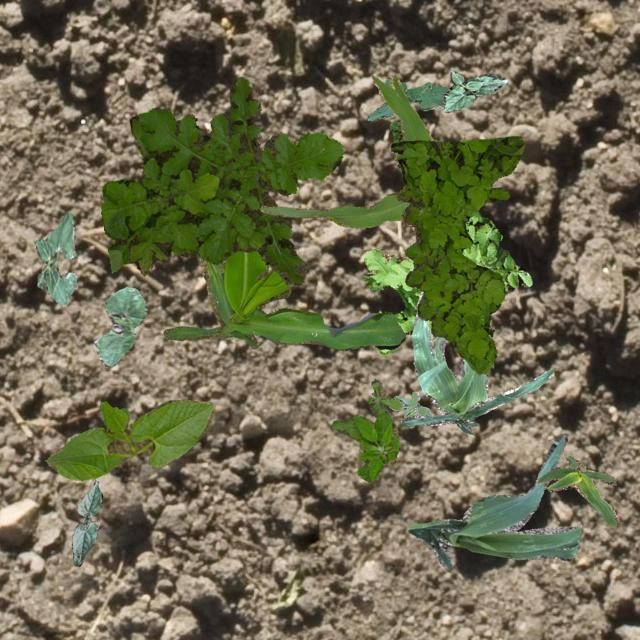crop: (258, 75, 466, 226), (162, 248, 404, 349), (408, 434, 580, 568), (398, 290, 554, 432), (45, 398, 214, 479), (534, 454, 616, 526), (92, 286, 146, 366), (34, 210, 76, 306), (366, 78, 448, 120), (70, 480, 102, 566), (442, 70, 506, 112)
weed: (100, 76, 342, 284), (389, 136, 524, 374), (362, 210, 530, 354), (332, 378, 399, 480), (392, 390, 429, 418), (388, 120, 404, 142)
